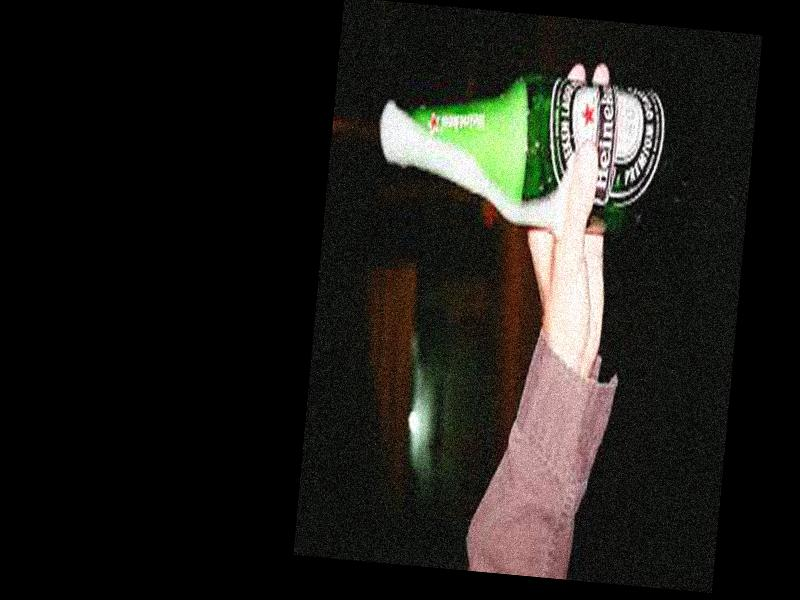Beer: (385, 57, 676, 240)
